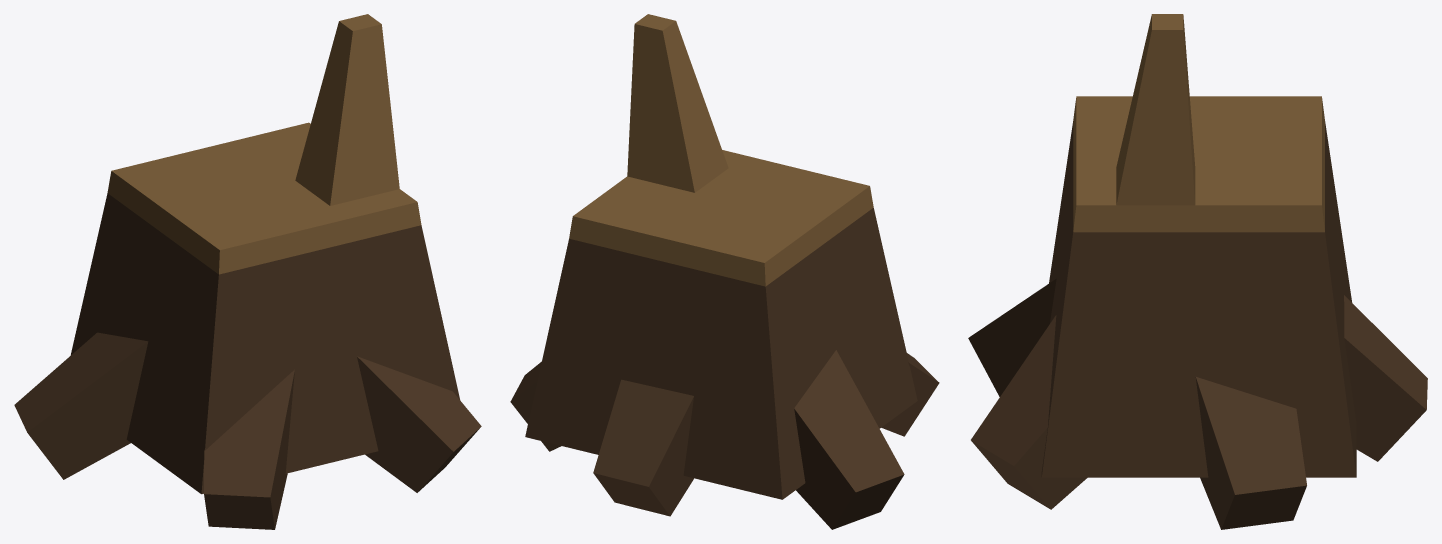
File: stump.glb
The picture shows the model from 3 angles, left to right: view 1: azimuth 30°, elevation 25°; view 2: azimuth 150°, elevation 25°; view 3: azimuth 270°, elevation 25°; orthographic projection. The views are drawn at different scales.
Parts seen in each view (by area): view 1: bole, cut, splinter, root.002, root.004, root.003; view 2: bole, cut, splinter, root.002, root.001, root.003, root; view 3: bole, cut, root, splinter, root.004, root.001, root.003.
Boxes of the visible parts, left/top/right/bottom form: bole: left=70, top=193, right=459, bottom=494; cut: left=107, top=122, right=421, bottom=274; splinter: left=295, top=14, right=399, bottom=205; root.002: left=14, top=332, right=148, bottom=479; root.004: left=357, top=356, right=481, bottom=492; root.003: left=204, top=369, right=294, bottom=529; bole: left=525, top=208, right=917, bottom=499; cut: left=569, top=150, right=873, bottom=286; splinter: left=627, top=14, right=728, bottom=192; root.002: left=794, top=350, right=904, bottom=529; root.001: left=593, top=379, right=693, bottom=516; root.003: left=881, top=353, right=939, bottom=436; root: left=510, top=361, right=561, bottom=451; bole: left=1041, top=121, right=1356, bottom=477; cut: left=1073, top=96, right=1324, bottom=232; root: left=1195, top=377, right=1306, bottom=529; splinter: left=1116, top=14, right=1195, bottom=205; root.004: left=971, top=315, right=1087, bottom=509; root.001: left=1344, top=295, right=1427, bottom=461; root.003: left=968, top=278, right=1056, bottom=396.
Bounding box in the file's own units: 16.58 × 16.5 × 14.61.
